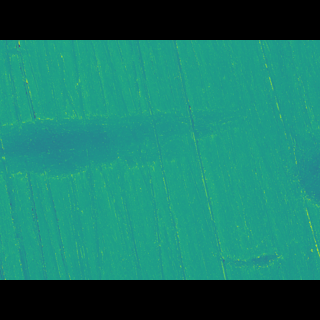Loch: (0, 117, 247, 179)
